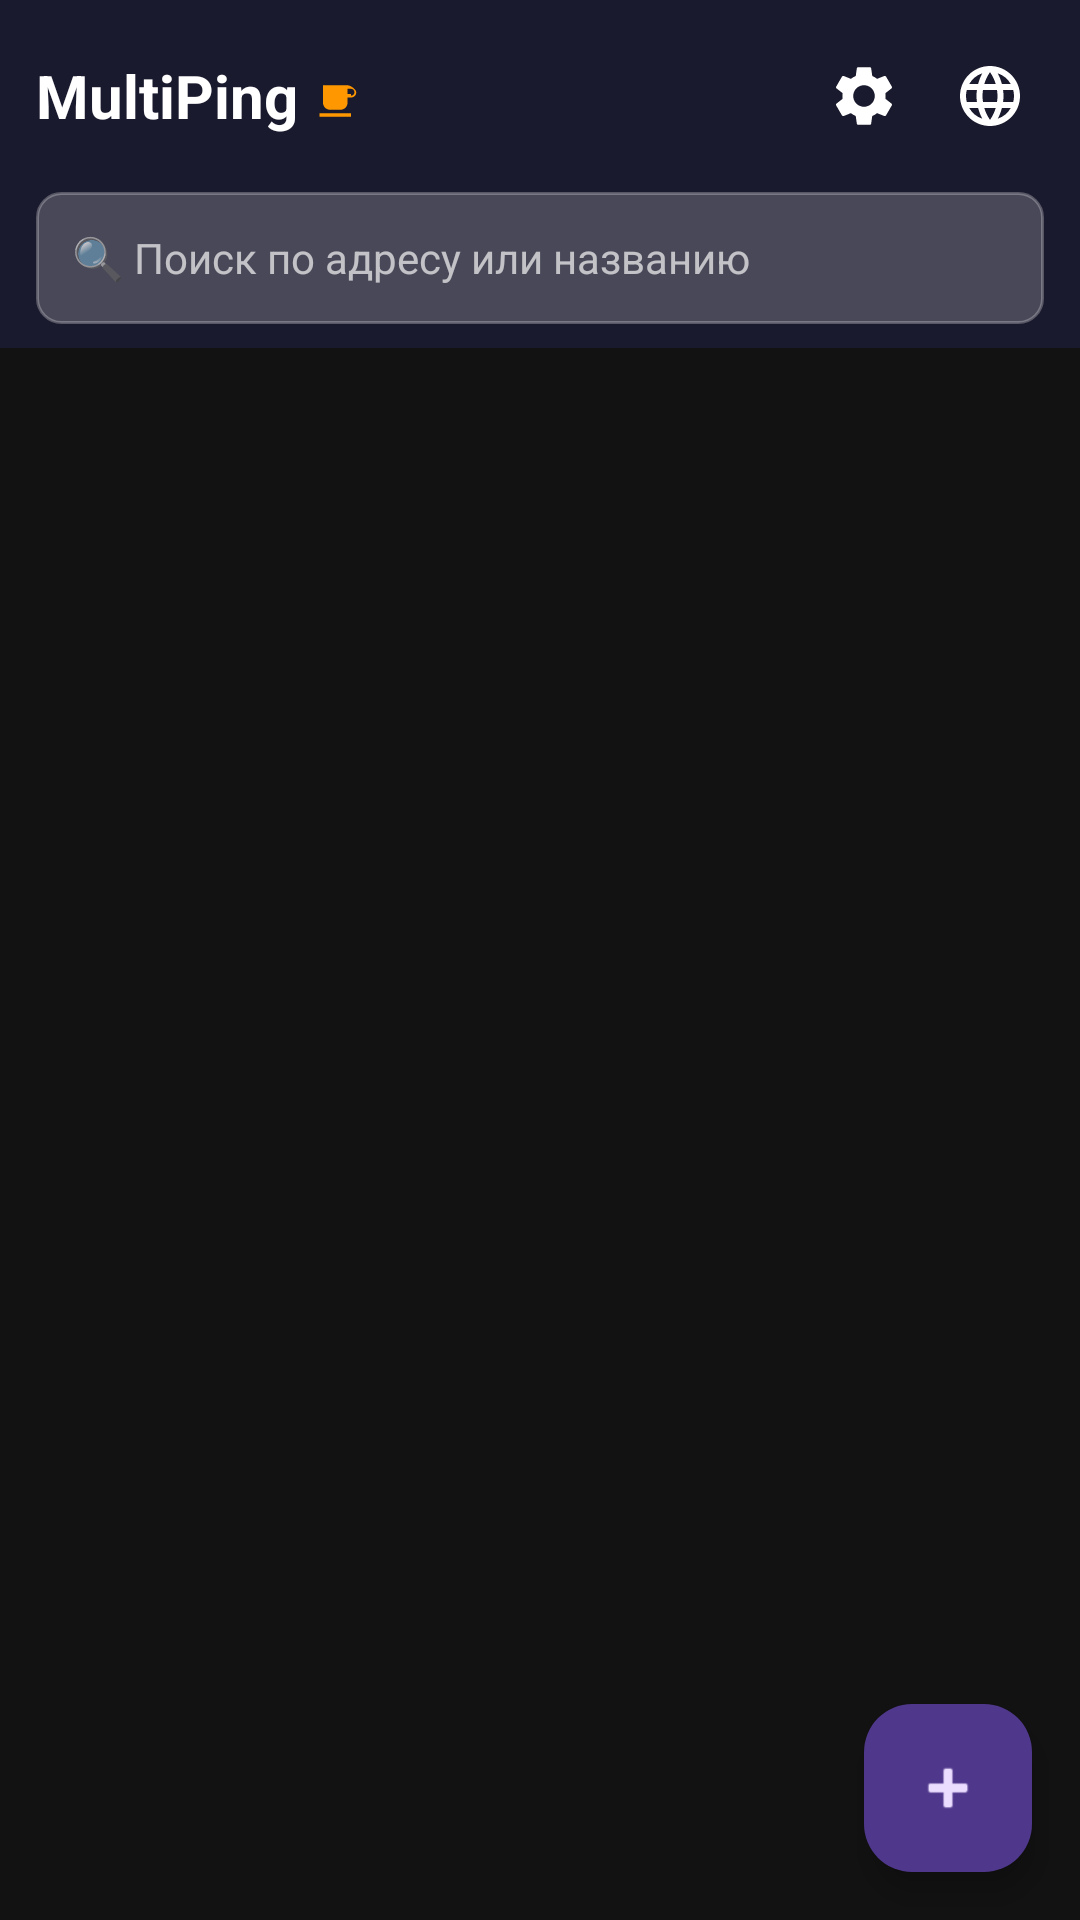

Point at icon controls on the screen. Image size 1080×1920, points as (x,y).
Добавить хост: (948,1788)
Донат: (338,101)
Настройки: (864,96)
Язык: (990,96)
